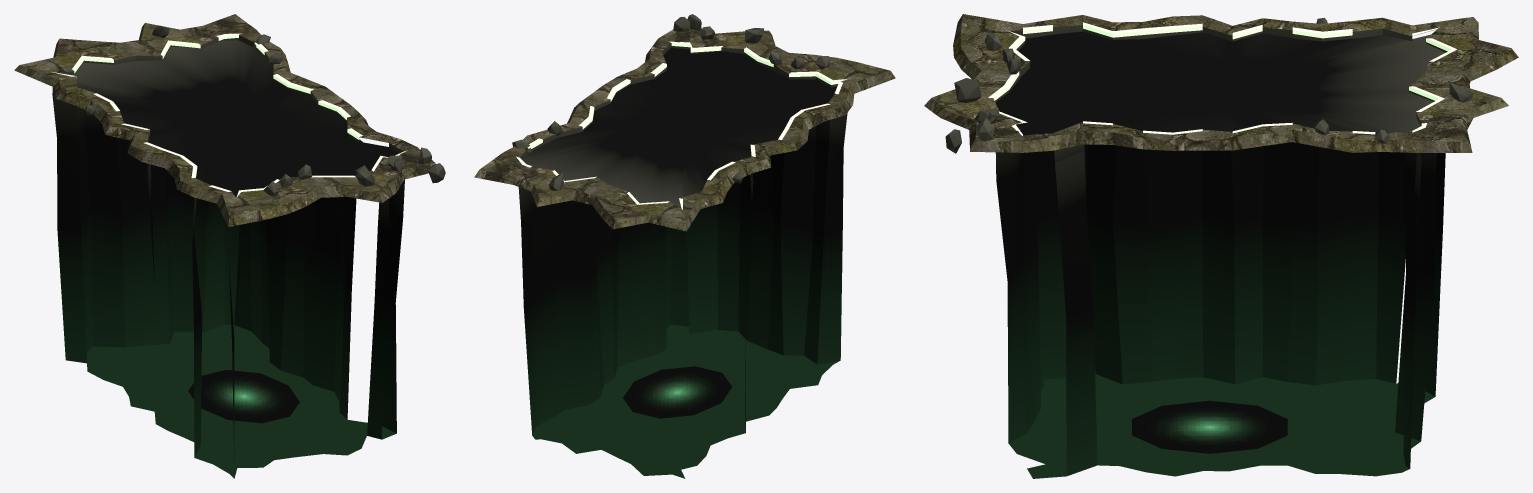
File: gap_lane.glb
The picture shows the model from 3 angles, left to right: view 1: azimuth 30°, elevation 25°; view 2: azimuth 150°, elevation 25°; view 3: azimuth 270°, elevation 25°; orthographic projection. The views are drawn at different scales.
Parts seen in each view (by area): view 1: pit_interior, pit_void, pit_rim, pit_glow, pit_cue, pit_rubble; view 2: pit_interior, pit_void, pit_rim, pit_glow, pit_cue, pit_rubble; view 3: pit_interior, pit_void, pit_rim, pit_glow, pit_cue, pit_rubble.
Boxes of the visible parts, x1,y1,x2,y2 form: pit_interior: [52, 95, 404, 478]; pit_void: [73, 40, 398, 197]; pit_rim: [14, 14, 435, 226]; pit_glow: [188, 370, 299, 423]; pit_cue: [51, 33, 406, 197]; pit_rubble: [85, 26, 445, 196]; pit_interior: [518, 113, 847, 478]; pit_void: [522, 47, 837, 208]; pit_rim: [474, 28, 895, 231]; pit_glow: [623, 366, 731, 418]; pit_cue: [516, 41, 849, 209]; pit_rubble: [512, 14, 830, 190]; pit_interior: [995, 125, 1445, 478]; pit_void: [995, 31, 1445, 135]; pit_rim: [924, 14, 1518, 162]; pit_glow: [1132, 400, 1287, 453]; pit_cue: [988, 22, 1456, 135]; pit_rubble: [945, 17, 1472, 153].
Bounding box in the file's own units: 2.06 × 2.68 × 3.97.
6 materials, 1 textured.
